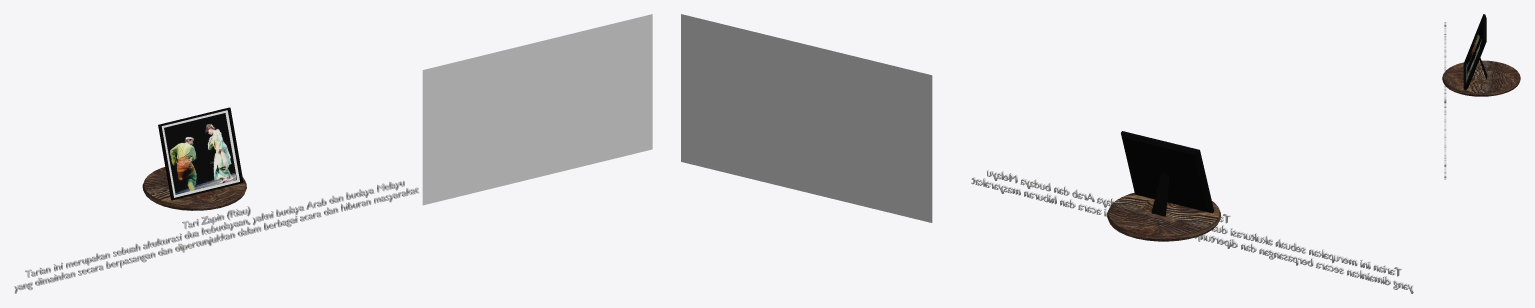
File: 7. Tari Zapin (Riau).fbx
3 renders of one model, left to right at view 1: azimuth 30°, elevation 25°; view 2: azimuth 150°, elevation 25°; view 3: azimuth 270°, elevation 25°, orthographic. The views are drawn at different scales.
Parts seen in each view (by area): view 1: Plane, Cube.039, Text; view 2: Plane, Cube.039, Text; view 3: Cube.039, Text.
Part boxes in pixels (box(x1,y1,x2,y2)): Plane: box(422, 14, 652, 205); Cube.039: box(142, 107, 246, 210); Text: box(14, 180, 419, 293); Plane: box(681, 14, 932, 222); Cube.039: box(1107, 131, 1220, 241); Text: box(971, 170, 1413, 293); Cube.039: box(1442, 14, 1520, 96); Text: box(1444, 22, 1446, 179).
Size of the model in its own units: 9101 by 1806 by 1260.
Materials: 6 (3 with a texture image).
